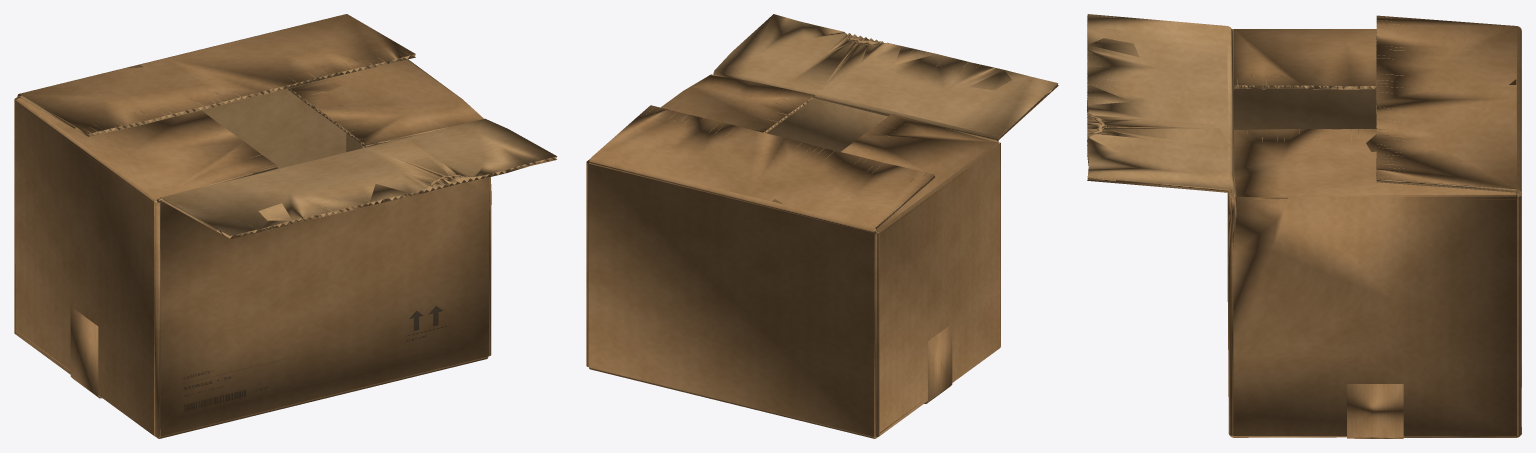
Rendered from carton.glb.
3 renders of one model, left to right at view 1: azimuth 30°, elevation 25°; view 2: azimuth 150°, elevation 25°; view 3: azimuth 270°, elevation 25°, orthographic. The views are drawn at different scales.
Parts seen in each view (by area): view 1: Body, LidBack, LidFront, LidLeft, LidRight; view 2: Body, LidBack, LidFront, LidLeft, LidRight; view 3: Body, LidBack, LidFront, LidRight, LidLeft.
Part boxes in pixels (bbox=[...]): Body: bbox=[14, 59, 491, 438]; LidBack: bbox=[17, 14, 415, 136]; LidFront: bbox=[159, 118, 557, 239]; LidLeft: bbox=[16, 64, 277, 203]; LidRight: bbox=[287, 59, 482, 147]; Body: bbox=[586, 31, 1000, 438]; LidBack: bbox=[589, 105, 935, 232]; LidFront: bbox=[713, 14, 1058, 142]; LidLeft: bbox=[772, 113, 999, 233]; LidRight: bbox=[587, 75, 815, 161]; Body: bbox=[1088, 29, 1521, 438]; LidBack: bbox=[1376, 15, 1521, 193]; LidFront: bbox=[1087, 14, 1234, 193]; LidRight: bbox=[1234, 129, 1516, 199]; LidLeft: bbox=[1234, 29, 1516, 89].
Size of the model in its own units: 0.4209 by 0.306 by 0.4598.
Materials: 6 (6 with a texture image).
